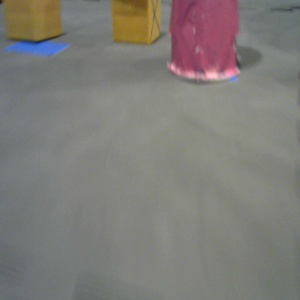Right: (167, 1, 243, 81)
